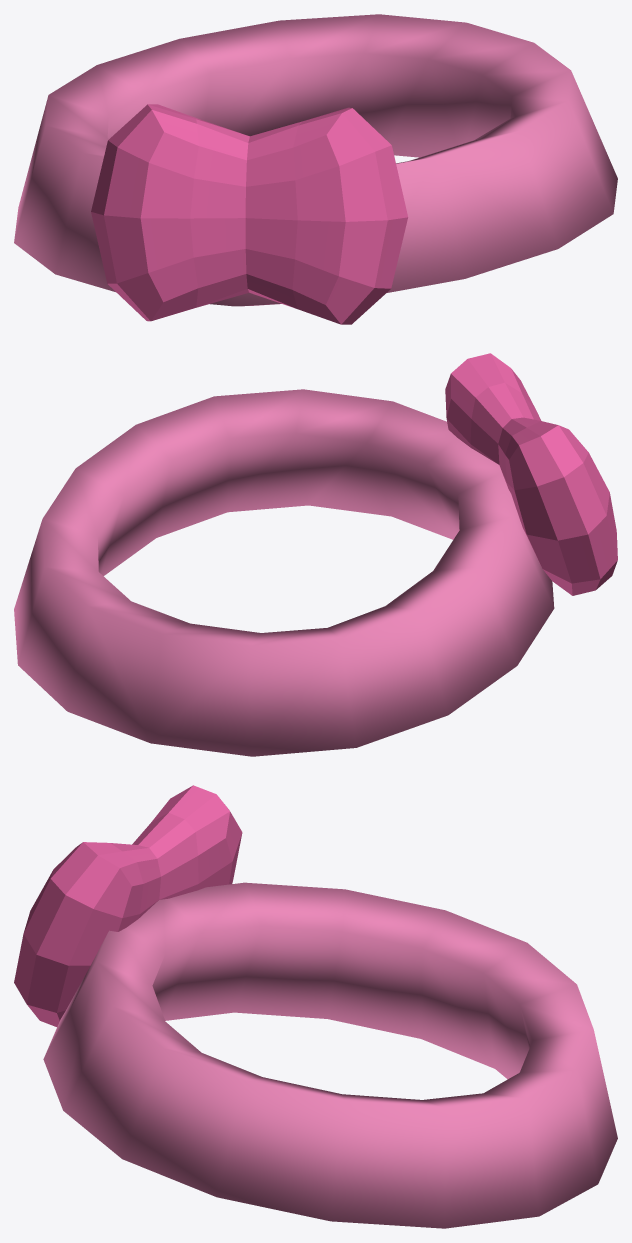
3 renders of one model, top to bottom at view 1: azimuth 30°, elevation 25°; view 2: azimuth 150°, elevation 25°; view 3: azimuth 270°, elevation 25°, orthographic. The views are drawn at different scales.
Visible parts, largest first — view 1: No; view 2: No; view 3: No.
Part boxes in pixels (x1,y1,x2,y2): No: (14, 14, 617, 324); No: (14, 353, 617, 756); No: (14, 785, 617, 1228).
Size of the model in its own units: 0.4886 by 0.2298 by 0.4852.
